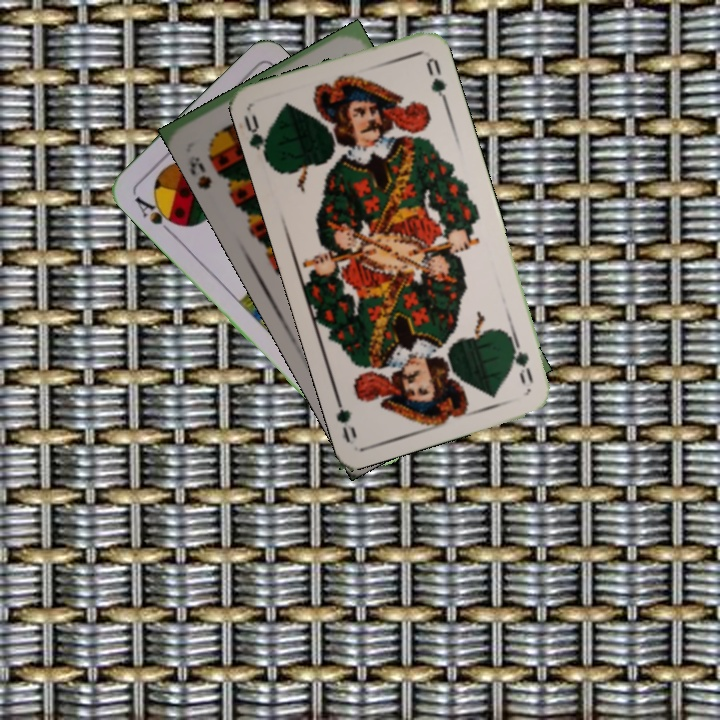GO: (503, 331, 536, 387), (240, 110, 272, 166)
S8: (184, 151, 215, 193)
SA: (130, 192, 183, 238)
